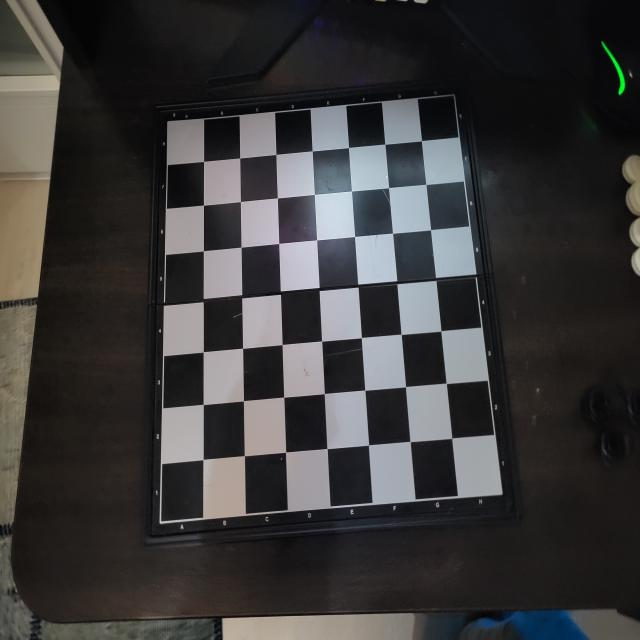chess-board: (153, 88, 515, 534)
